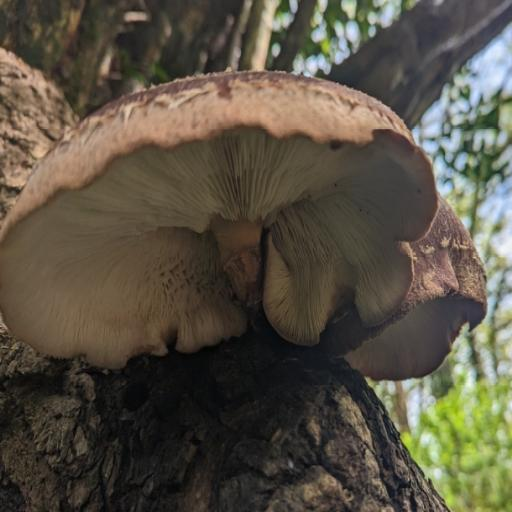Shiitake Mushroom: (8, 67, 485, 371)
